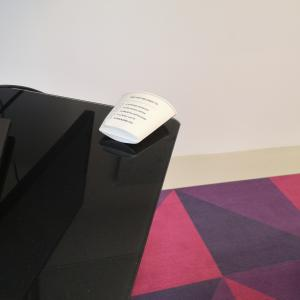Cup: (99, 92, 180, 146)
